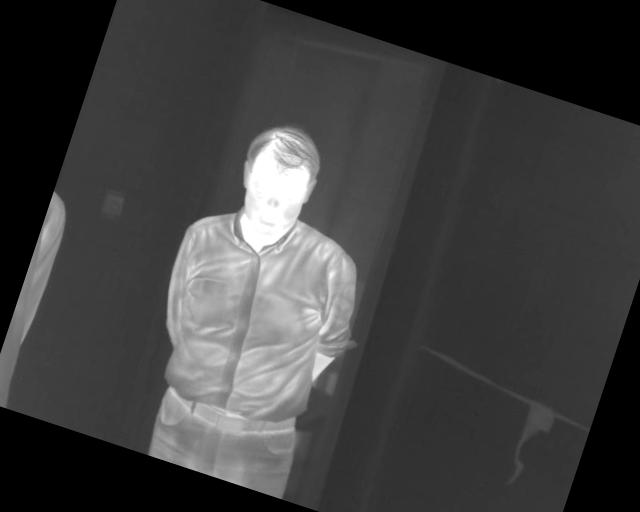face: (222, 113, 332, 249)
